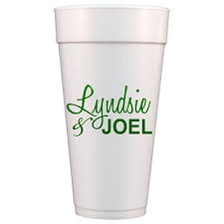paper_cup: (48, 3, 173, 222)
